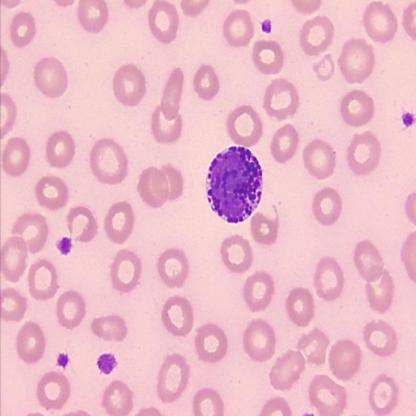Basophil: (204, 142, 265, 225)
